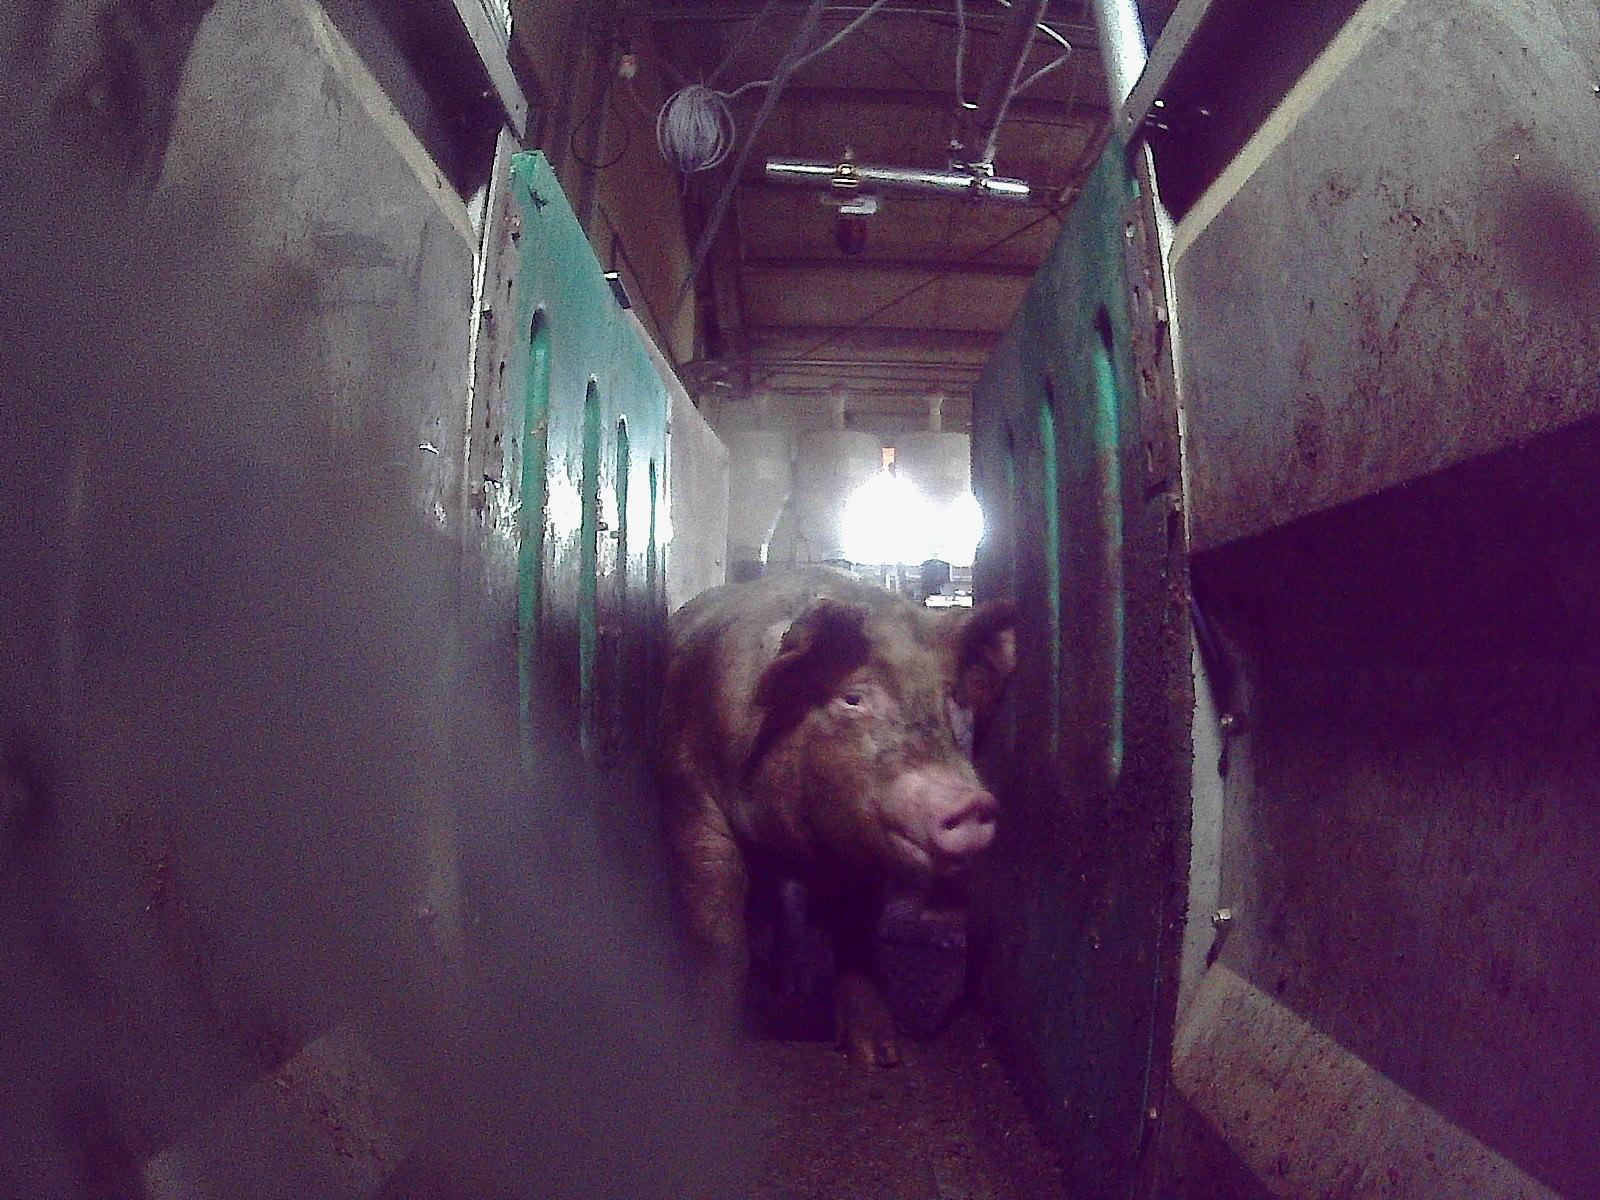Face: (769, 609, 995, 880)
